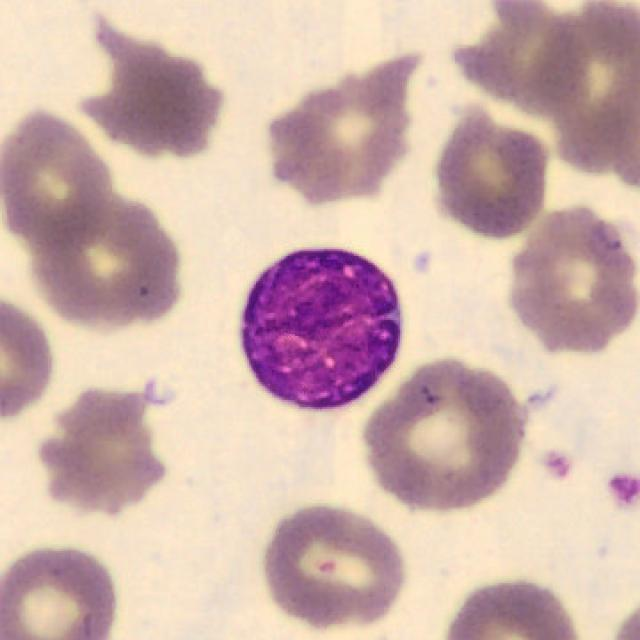Linfocito: (240, 249, 402, 412)
